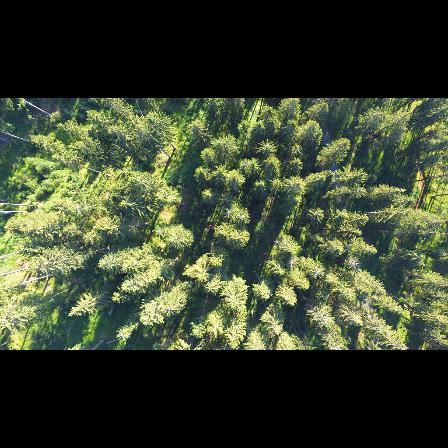Sick: (232, 206, 252, 225), (238, 158, 259, 175), (306, 262, 326, 279), (257, 139, 278, 155), (344, 257, 363, 271), (220, 206, 237, 220), (290, 143, 306, 156)
